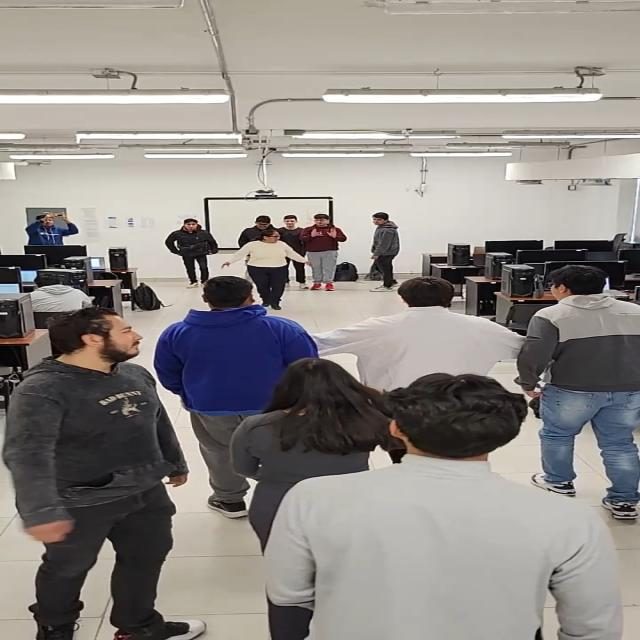Persona: (293, 377, 625, 635), (14, 308, 183, 638), (532, 259, 640, 508), (334, 277, 518, 376), (166, 277, 290, 409), (259, 354, 390, 472), (232, 229, 300, 306), (302, 212, 341, 290), (170, 217, 216, 282), (18, 207, 88, 246), (369, 210, 401, 295), (279, 212, 302, 249), (252, 213, 280, 237)
